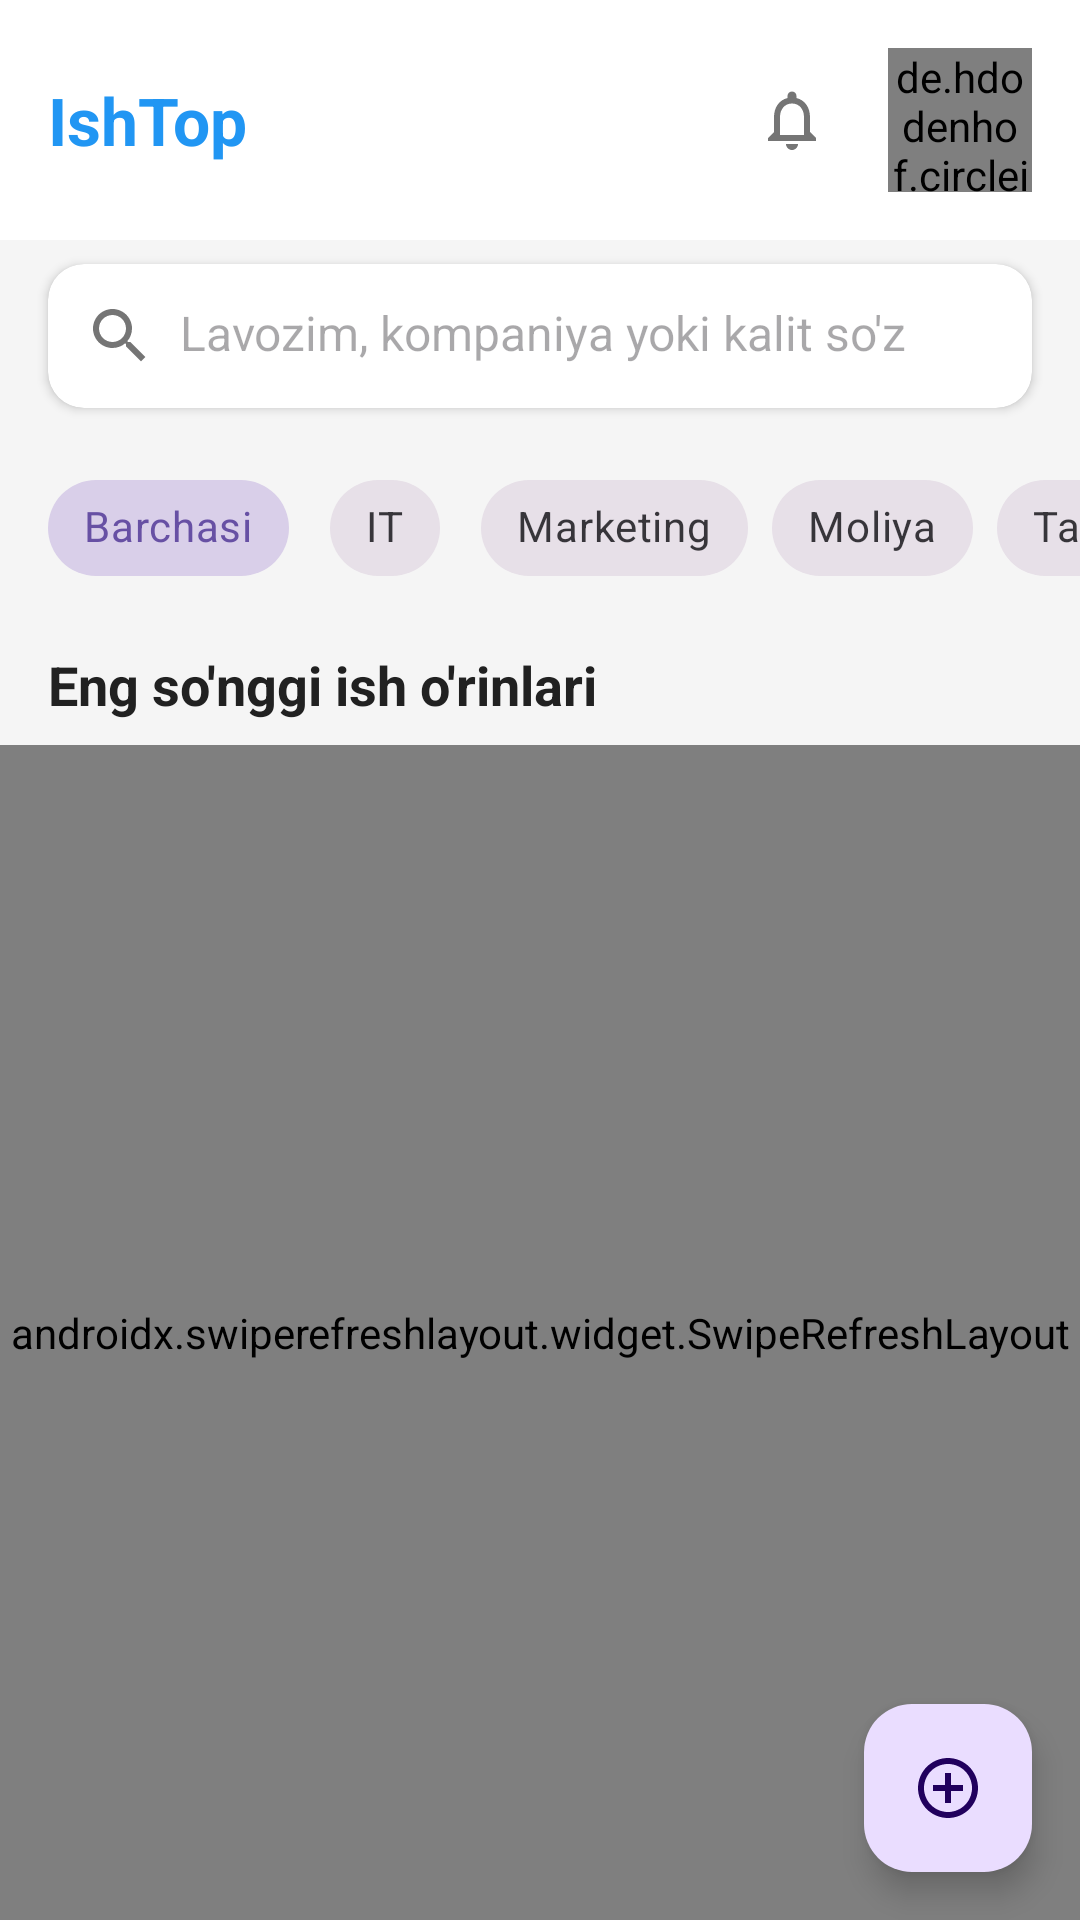

Icon bounding boxes for this 1080 × 1920 phone screenshot, format (x1, y1, x2, y2):
add: (864, 1704, 1032, 1872)
notifications: (768, 91, 816, 150)
search: (93, 309, 145, 361)
